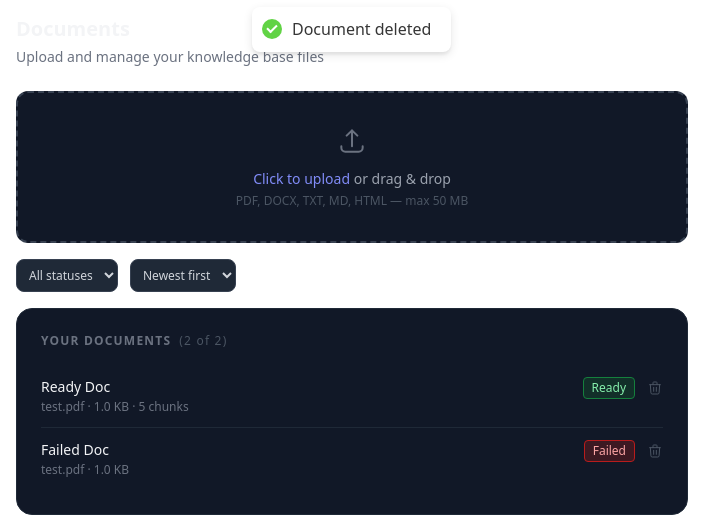
Scenario: DocumentsPage › filters documents by status
Expected: the element with test id "doc-row-doc-1" is shown, [41,365,663,428]
// Filter to 'failed' only
Select "Failed" in the dropdown named "filter by status" at x=67, y=276, box [16,259,118,292]
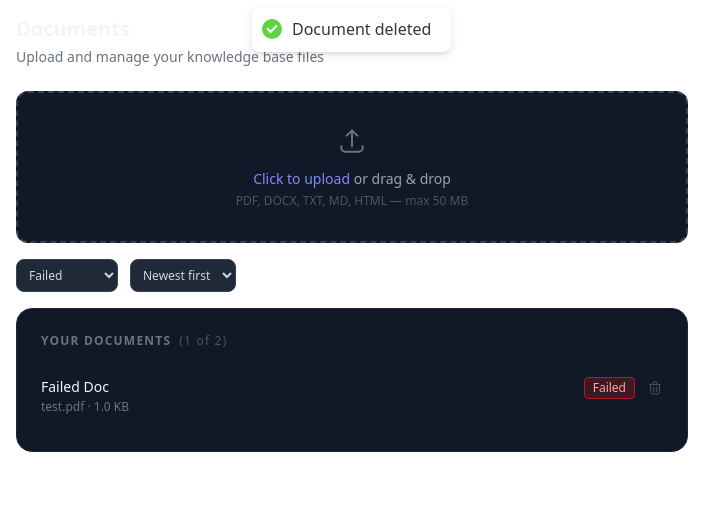
Expected: the element with test id "doc-row-doc-2" is shown, [41,365,663,427]
Expected: the element with test id "doc-row-doc-1" is gone
